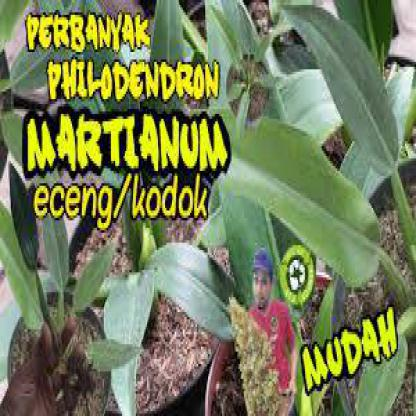Melati: (165, 135, 298, 319), (253, 72, 349, 229), (84, 160, 146, 294)
